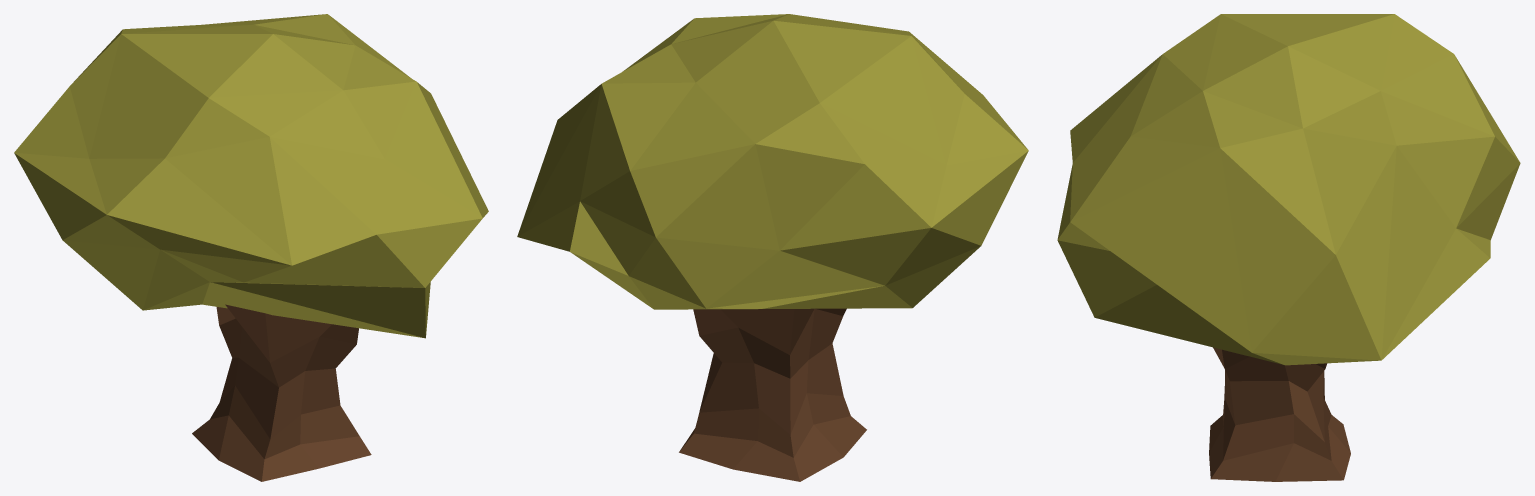
Rendered from Tree_30_Yellow.fbx.
3 renders of one model, left to right at view 1: azimuth 30°, elevation 25°; view 2: azimuth 150°, elevation 25°; view 3: azimuth 270°, elevation 25°, orthographic. The views are drawn at different scales.
Visible parts, largest first — view 1: Tree_30_Yellow_Part_1, Tree_30_Yellow_Part_2; view 2: Tree_30_Yellow_Part_1, Tree_30_Yellow_Part_2; view 3: Tree_30_Yellow_Part_1, Tree_30_Yellow_Part_2.
Boxes of the visible parts, <box> form: Tree_30_Yellow_Part_1: <box>14,14,488,338</box>; Tree_30_Yellow_Part_2: <box>192,304,371,481</box>; Tree_30_Yellow_Part_1: <box>517,14,1028,309</box>; Tree_30_Yellow_Part_2: <box>679,308,866,481</box>; Tree_30_Yellow_Part_1: <box>1057,14,1520,365</box>; Tree_30_Yellow_Part_2: <box>1209,347,1350,481</box>.
Size of the model in its own units: 912 by 881 by 915.
